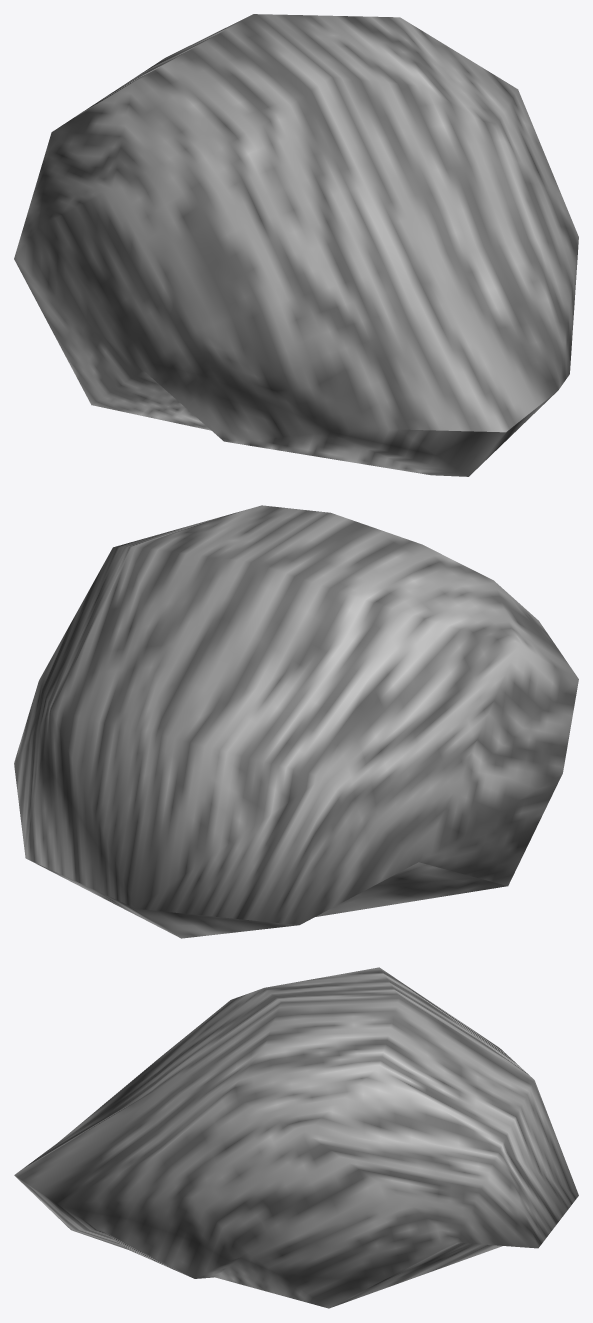
Rendered from Wig_Bob_Hair_Spike.fbx.
The picture shows the model from 3 angles, top to bottom: view 1: azimuth 30°, elevation 25°; view 2: azimuth 150°, elevation 25°; view 3: azimuth 270°, elevation 25°; orthographic projection. The views are drawn at different scales.
Parts seen in each view (by area): view 1: BoxOfJars003; view 2: BoxOfJars003; view 3: BoxOfJars003.
Boxes of the visible parts, x1,y1,x2,y2 form: BoxOfJars003: [14, 14, 578, 476]; BoxOfJars003: [14, 505, 578, 938]; BoxOfJars003: [14, 967, 578, 1308].
Bounding box in the file's own units: 11.19 × 8.45 × 17.1.
